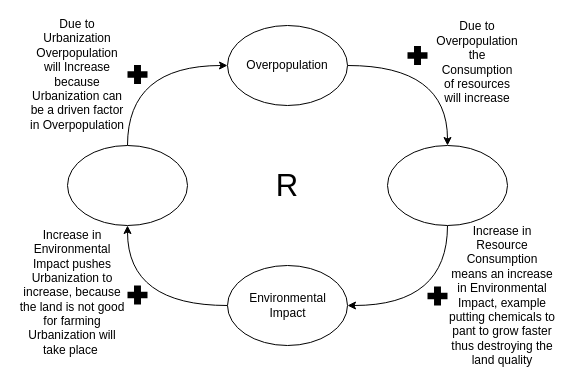
Some shapes in this 574 by 384 pixel diagram are drawn without their labels. Each missing label, with the centre of its shape:
"Resource Consumption" goes at [447,185].
"Urbanization" goes at [127,185].
